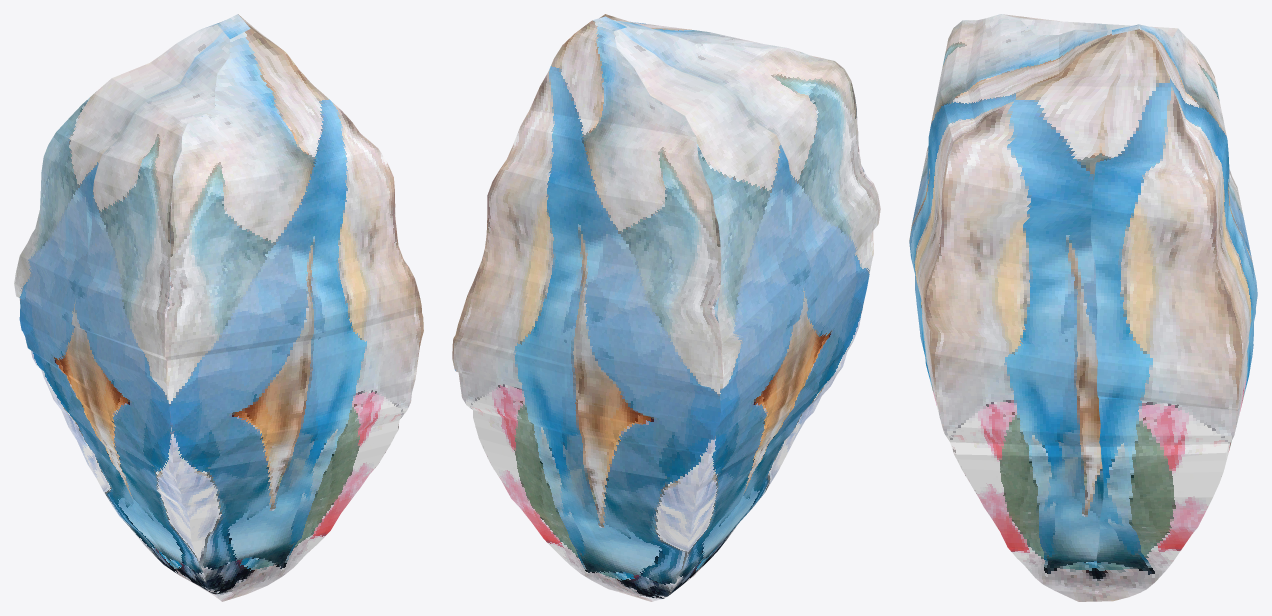
File: metamorphosis_v20_t.glb
3 renders of one model, left to right at view 1: azimuth 30°, elevation 25°; view 2: azimuth 150°, elevation 25°; view 3: azimuth 270°, elevation 25°, orthographic. The views are drawn at different scales.
Visible parts, largest first — view 1: Cube; view 2: Cube; view 3: Cube.
Boxes of the visible parts, x1,y1,x2,y2 form: Cube: [14, 14, 423, 601]; Cube: [452, 14, 880, 601]; Cube: [909, 14, 1257, 601].
Size of the model in its own units: 1.64 by 3.12 by 1.69.
1 material, 1 textured.
